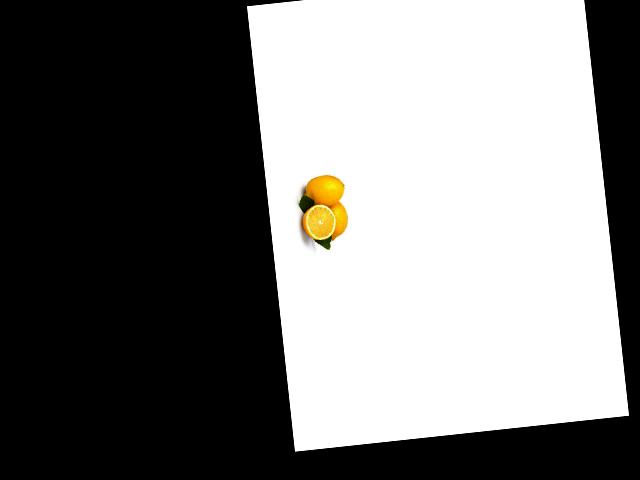lemon: (323, 202, 352, 243)
